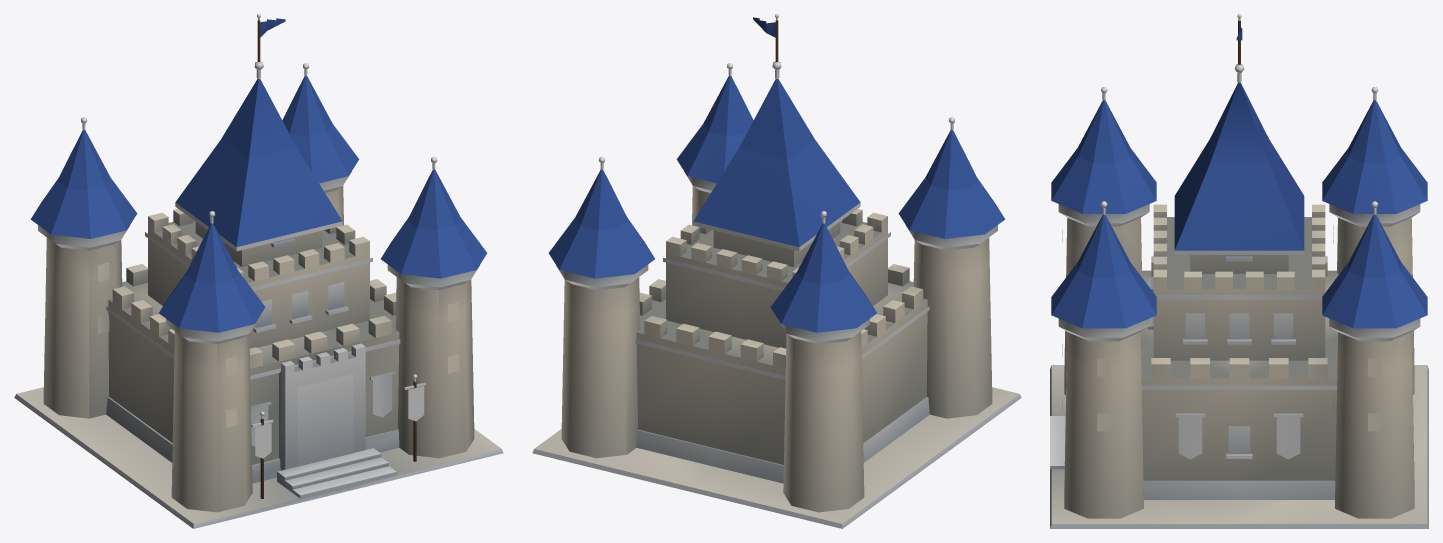
File: city_hall_t4.glb
3 renders of one model, left to right at view 1: azimuth 30°, elevation 25°; view 2: azimuth 150°, elevation 25°; view 3: azimuth 270°, elevation 25°, orthographic. The views are drawn at different scales.
Visible parts, largest first — view 1: city_hall_t4; view 2: city_hall_t4; view 3: city_hall_t4.
Part boxes in pixels (left/top/right/bottom): city_hall_t4: left=14, top=14, right=503, bottom=528; city_hall_t4: left=532, top=14, right=1021, bottom=528; city_hall_t4: left=1050, top=14, right=1428, bottom=528.
Size of the model in its own units: 3.86 by 4.89 by 3.86.
